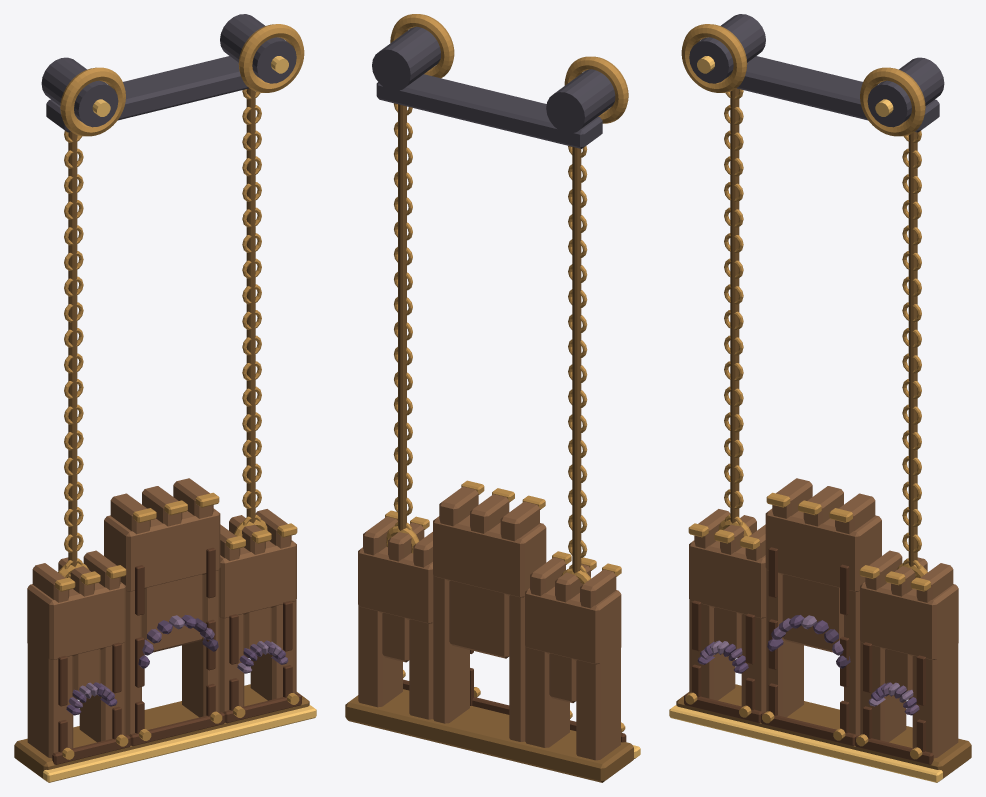
Rendered from SM_Vault_WestFlyBar.fbx.
3 renders of one model, left to right at view 1: azimuth 30°, elevation 25°; view 2: azimuth 150°, elevation 25°; view 3: azimuth 330°, elevation 25°, orthographic. The views are drawn at different scales.
Visible parts, largest first — view 1: SM_Vault_WestFlyBar; view 2: SM_Vault_WestFlyBar; view 3: SM_Vault_WestFlyBar.
Part boxes in pixels (x1,y1,x2,y2): SM_Vault_WestFlyBar: (14,14,316,782); SM_Vault_WestFlyBar: (345,14,640,782); SM_Vault_WestFlyBar: (669,14,971,782).
Size of the model in its own units: 176 by 53.5 by 442.
